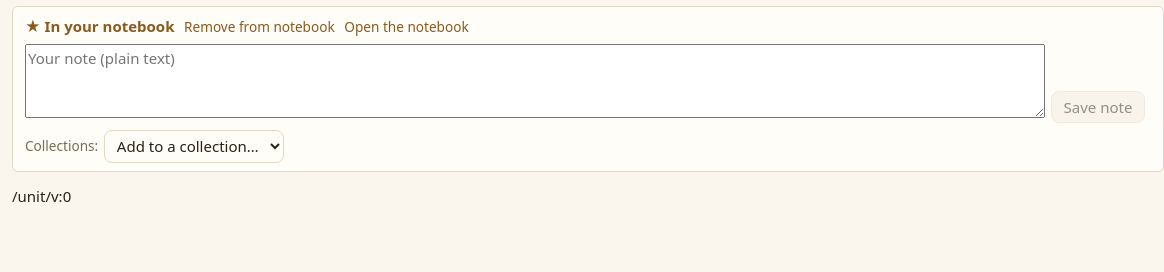
Test: NotebookPanel › names a collection already taken
Select "New collection" in the dropdown named "Add to a collection…" at (194, 146), box [104,130,284,163]
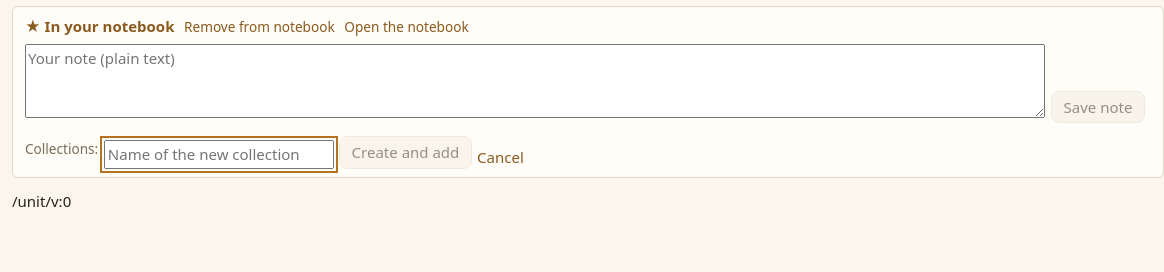
Type "Openings" into the field labelled "Name of the new collection" at (219, 154), box [104,140,334,169]
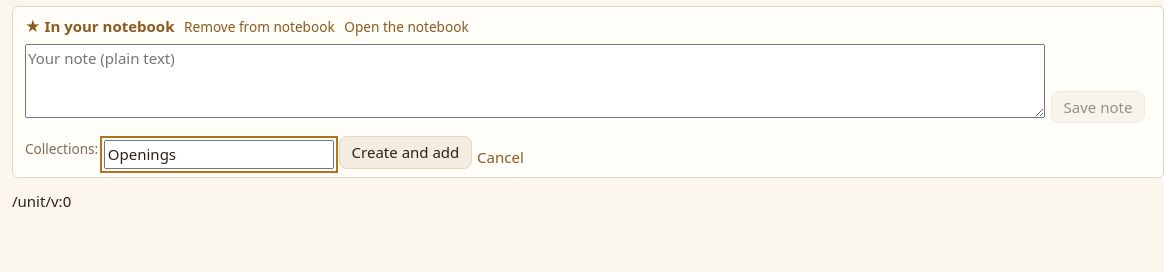
Click the button "Create and add" at (405, 152), box [339,136,472,169]
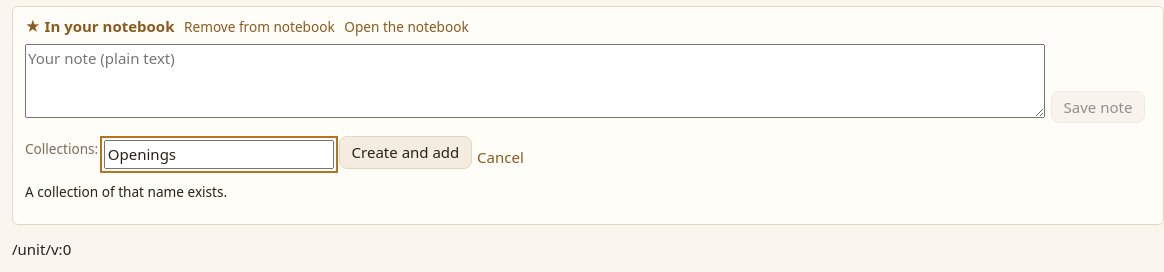
Result: the text "A collection of that name exists." is shown at [25,182,227,201]
